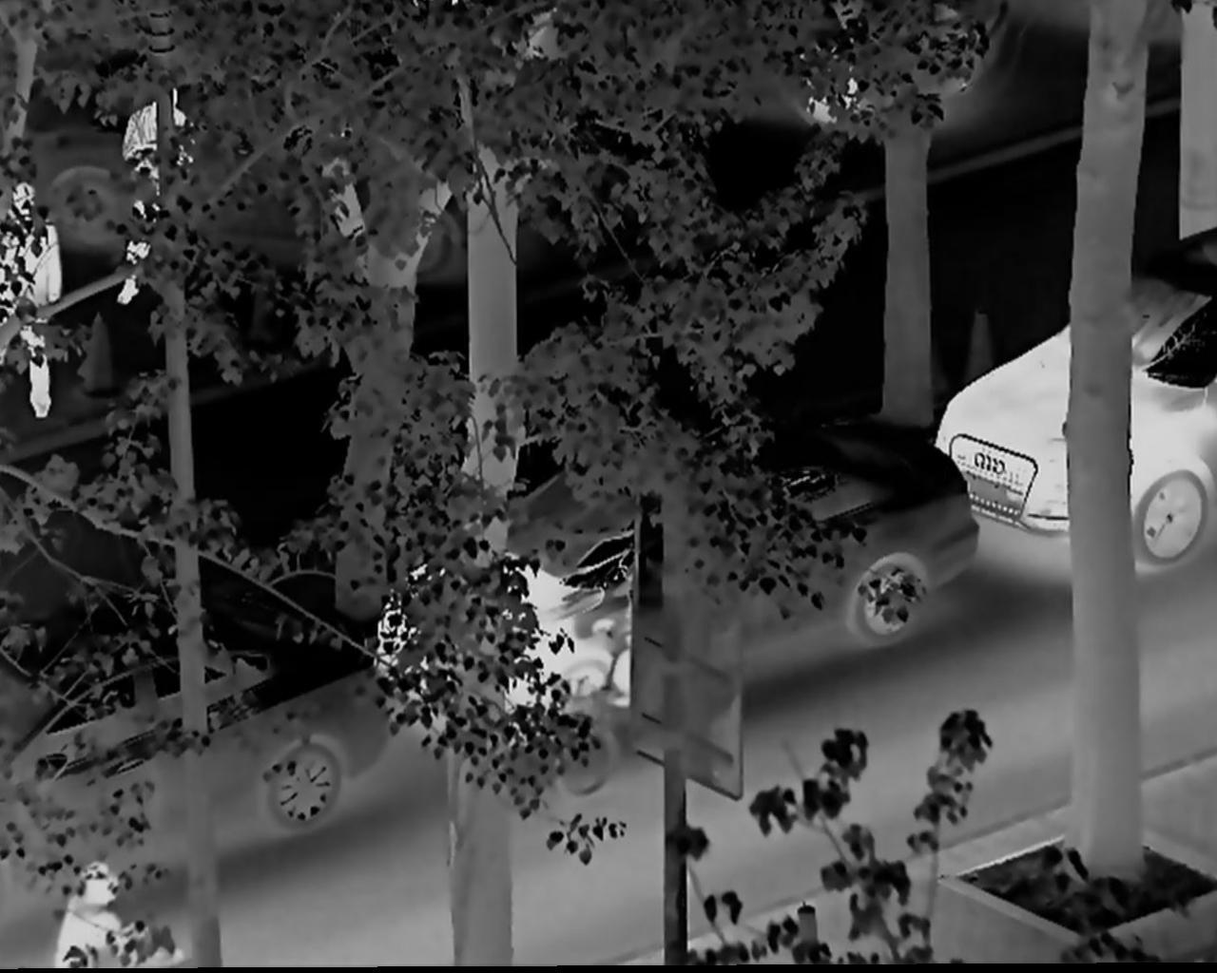person: (122, 83, 211, 306), (55, 858, 186, 973)
